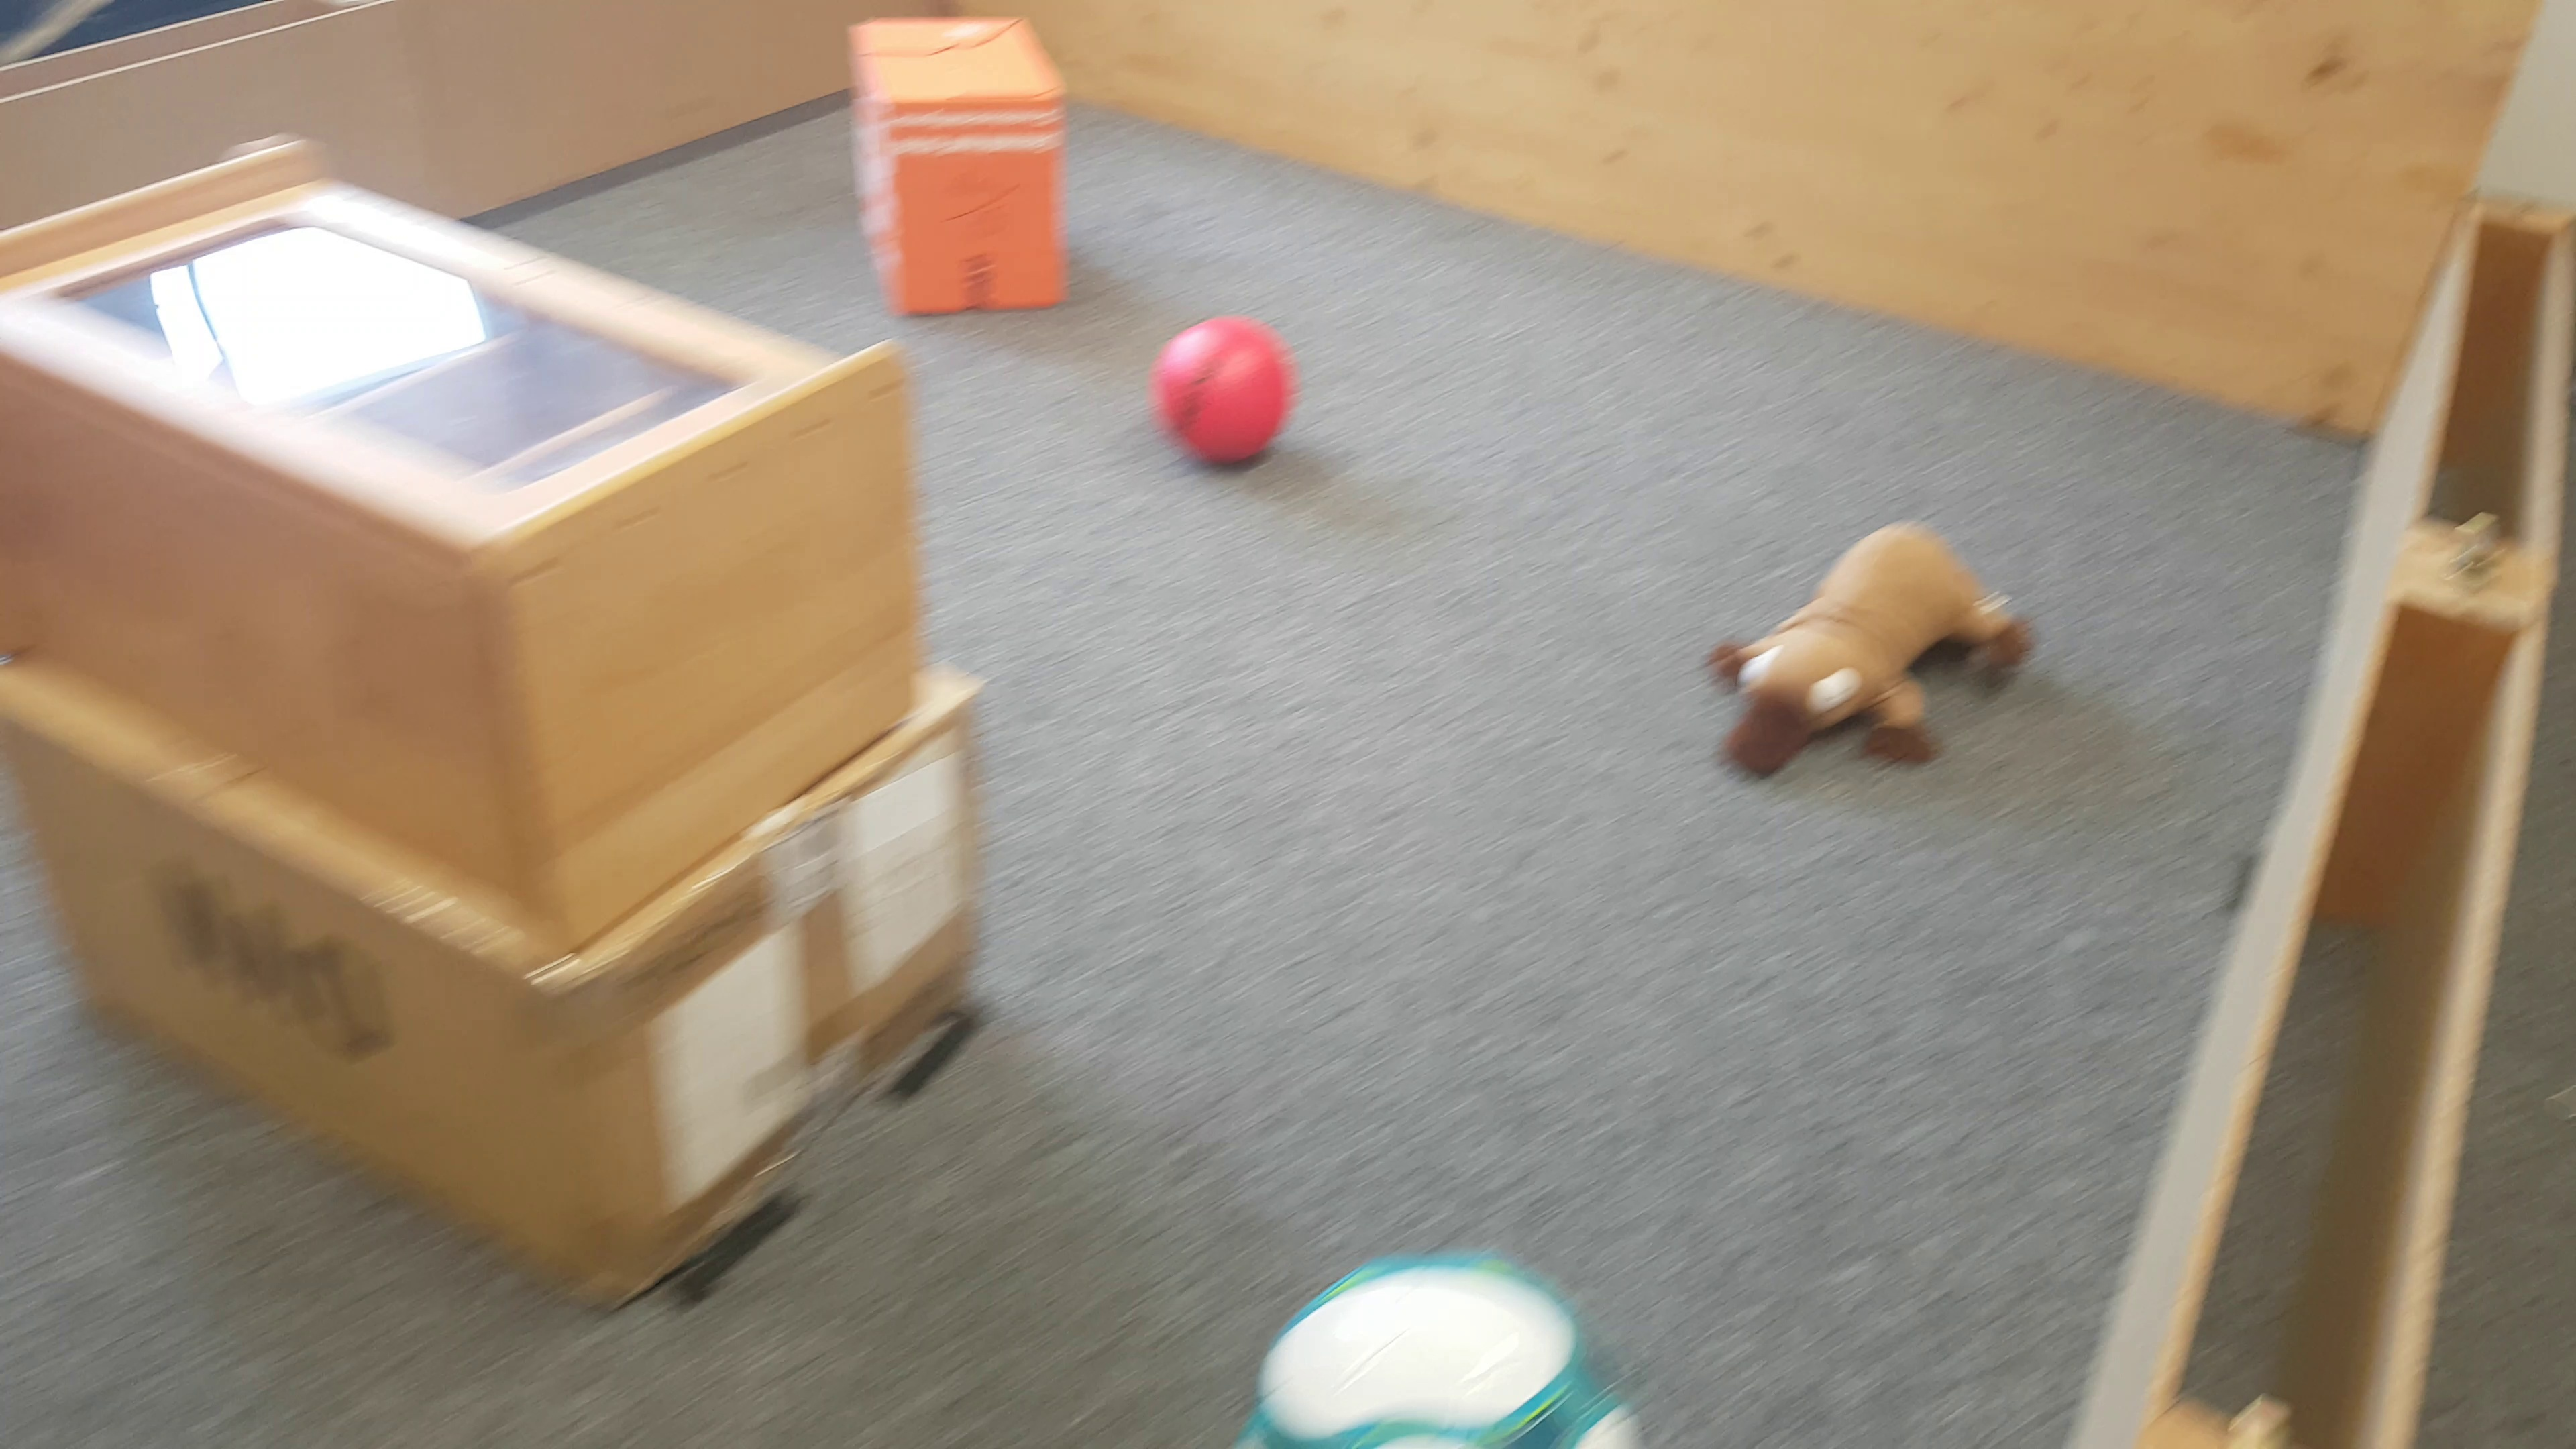grasp: (1713, 522, 2033, 775)
kick: (1244, 1247, 1644, 1449), (1150, 310, 1290, 469)
push: (849, 18, 1072, 329)
